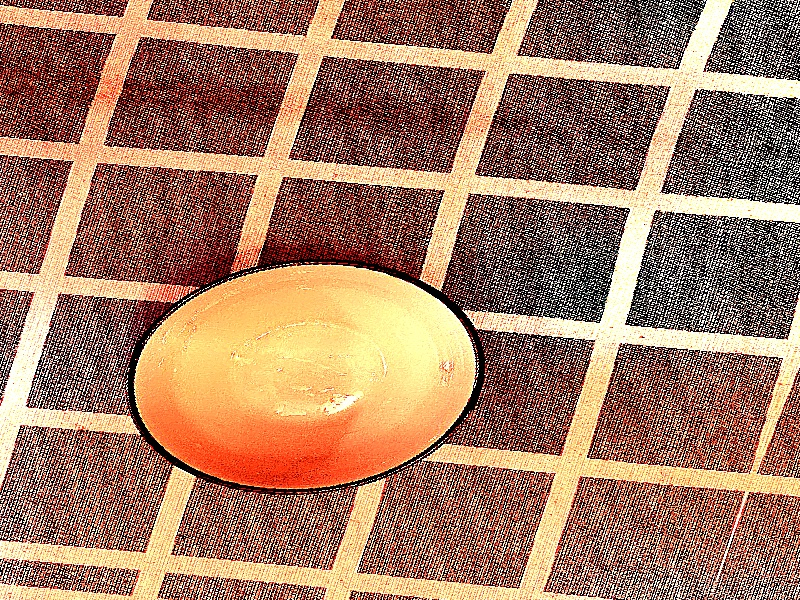bowl_small: (75, 236, 532, 515)
